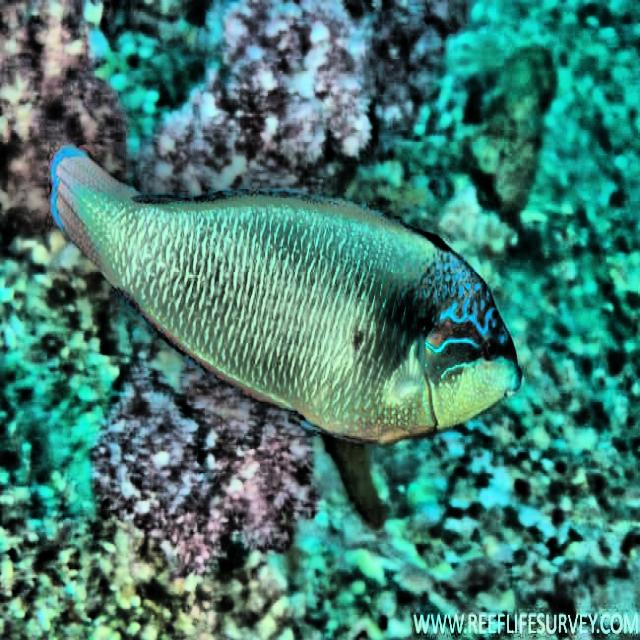fish: (51, 150, 524, 448)
